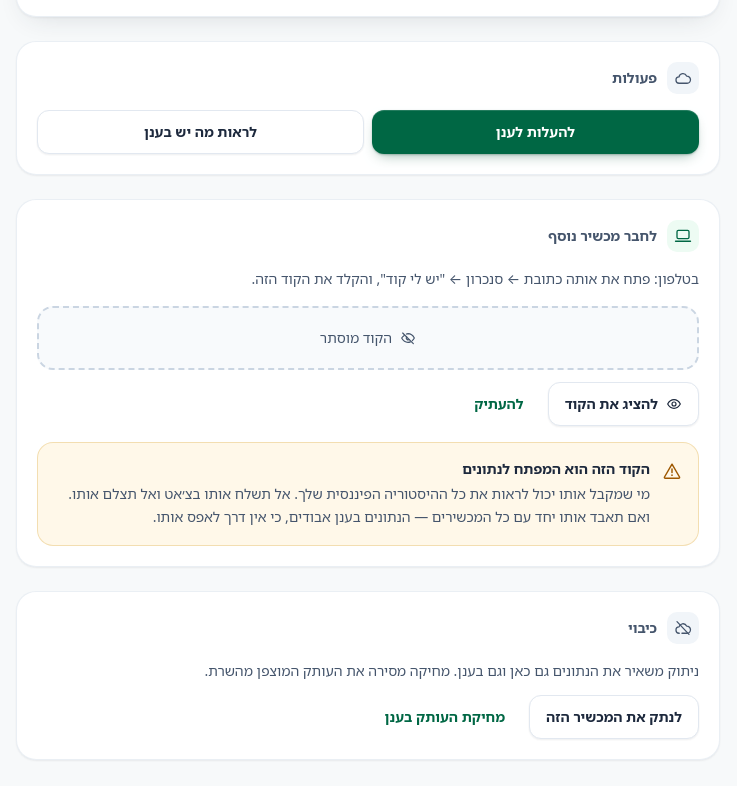
Test: ⭐ הקוד השמור › ⭐ מוצג רק אחרי בקשה מפורשת, עם אזהרה
This screenshot has width=737, height=786.
(page scrolled)
Click the button "להציג את הקוד".
click(623, 404)  # box [548,382,699,426]
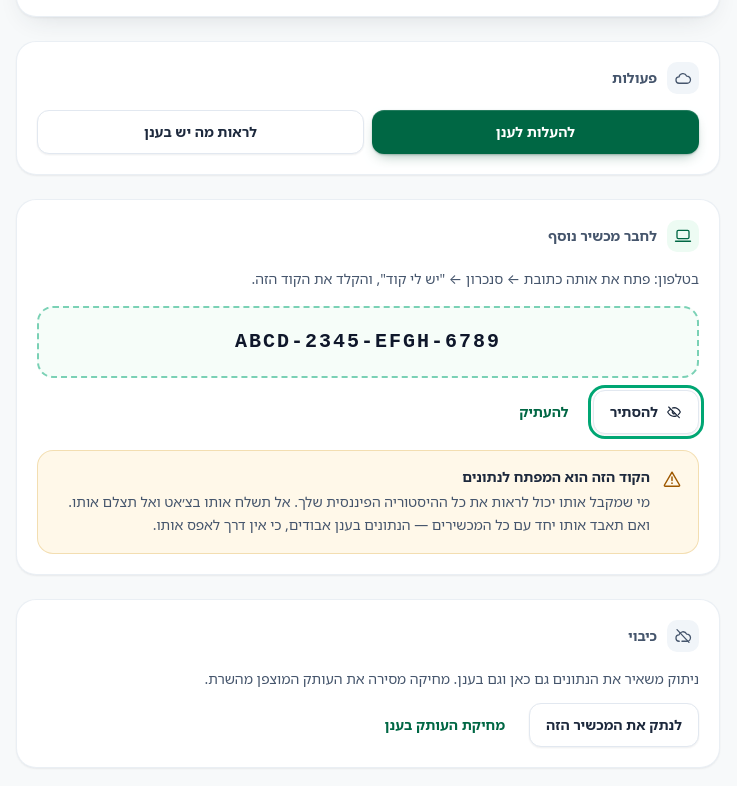
Expected: the text "הקוד הזה הוא המפתח לנתונים" is shown, [462,467,650,486]
Now the text "ABCD-2345-EFGH-6789" is shown, box [37,306,699,378]
